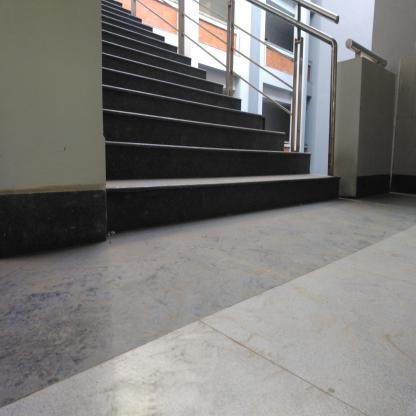stairs: (109, 58, 193, 236)
